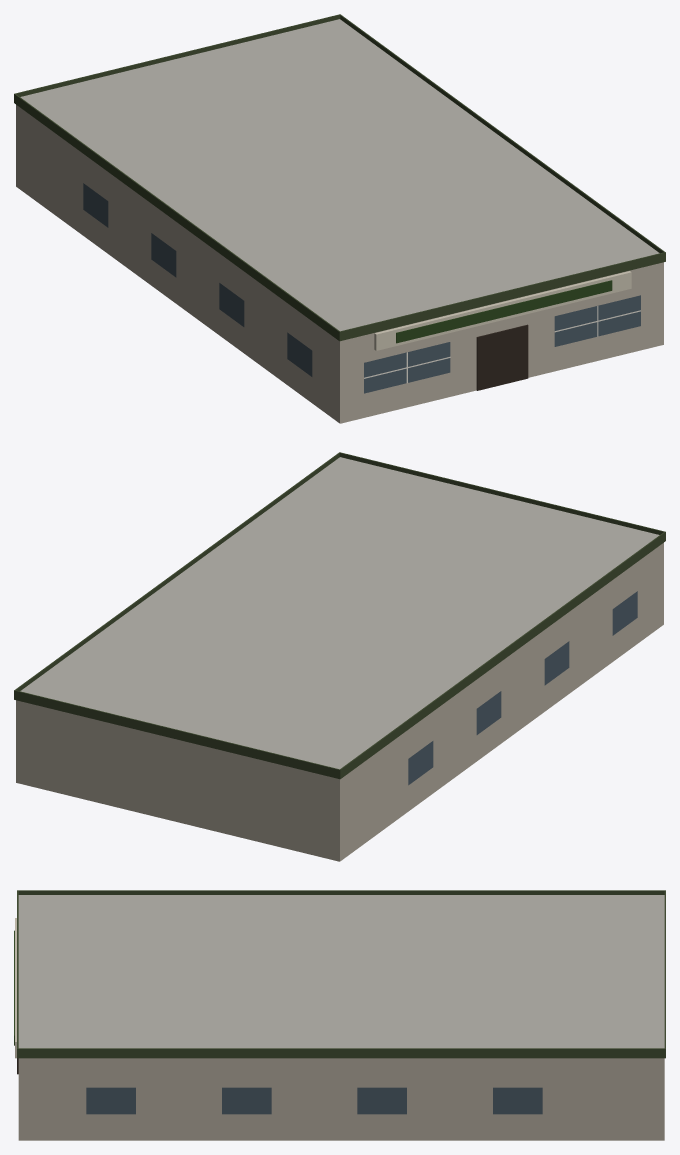
File: black-eyed-pea-rebsamen.glb
3 views of the same model, one above another, from view 1: azimuth 30°, elevation 25°; view 2: azimuth 150°, elevation 25°; view 3: azimuth 270°, elevation 25° (orthographic).
Parts seen in each view (by area): view 1: black_eyed_pea_rebsamen; view 2: black_eyed_pea_rebsamen; view 3: black_eyed_pea_rebsamen.
Part boxes in pixels (x1=…): black_eyed_pea_rebsamen: x1=14, y1=14, x2=665, y2=423; black_eyed_pea_rebsamen: x1=14, y1=452, x2=665, y2=861; black_eyed_pea_rebsamen: x1=14, y1=890, x2=665, y2=1140.
Size of the model in its own units: 16.62 by 4.5 by 28.86.
